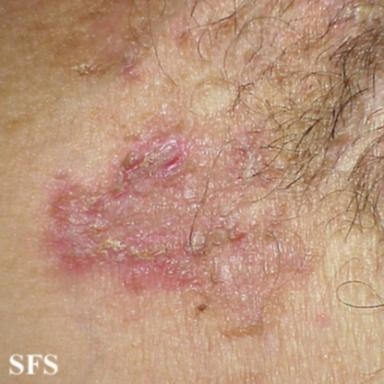Hailey-Hailey-Disease: (45, 100, 317, 335)
